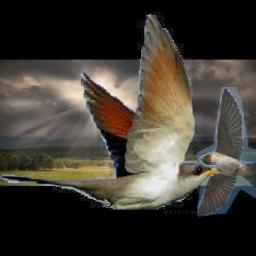Cuckoo: (1, 13, 223, 210)
Swallow: (198, 87, 256, 217)
